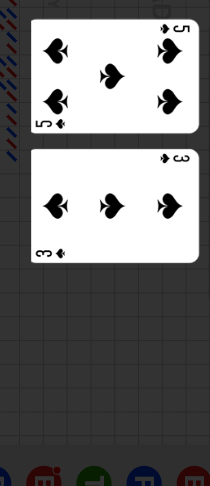3S: (35, 246, 68, 260)
5S: (157, 23, 191, 35)
